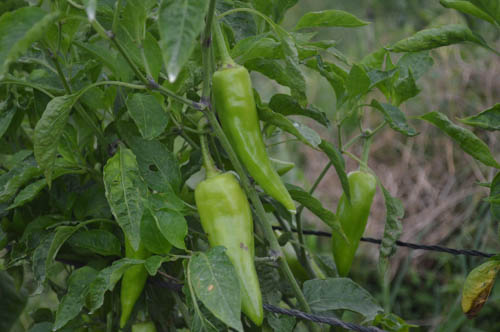ChiliPepper: (218, 67, 298, 214), (199, 176, 267, 322), (337, 171, 374, 285), (117, 238, 149, 325)
